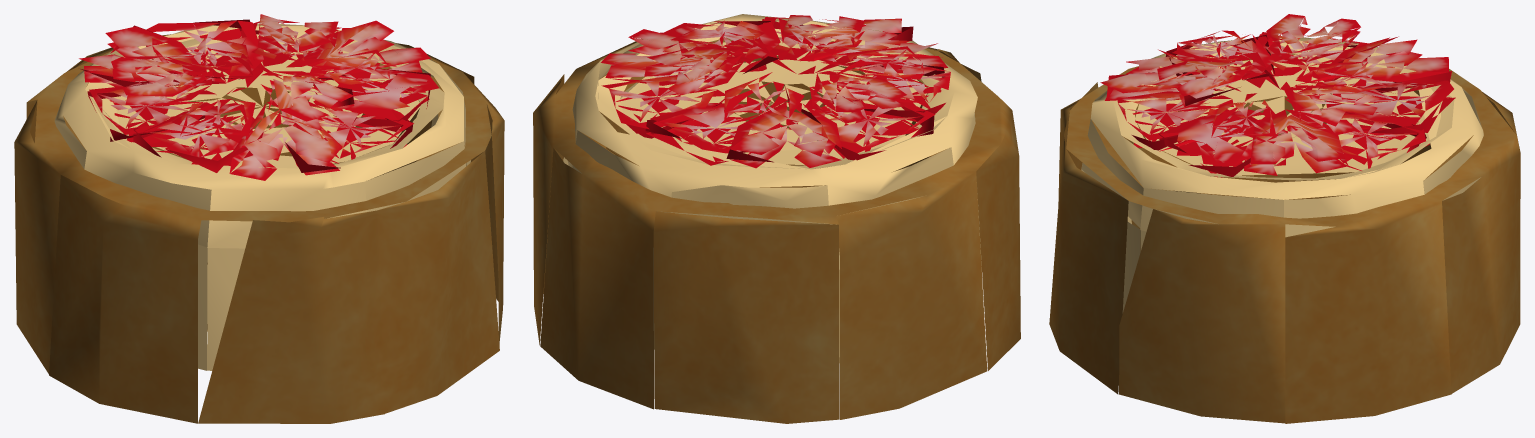
The model's file is Tart.006_LOD2.fbx.
3 renders of one model, left to right at view 1: azimuth 30°, elevation 25°; view 2: azimuth 150°, elevation 25°; view 3: azimuth 270°, elevation 25°, orthographic. The views are drawn at different scales.
Parts seen in each view (by area): view 1: Tart_006_Tart_006_0; view 2: Tart_006_Tart_006_0; view 3: Tart_006_Tart_006_0.
Part boxes in pixels (x1,y1,x2,y2): Tart_006_Tart_006_0: [14, 14, 504, 423]; Tart_006_Tart_006_0: [533, 14, 1020, 423]; Tart_006_Tart_006_0: [1049, 14, 1520, 423].
Bounding box in the file's own units: 53.69 × 32.18 × 53.8.
Materials: 4 (4 with a texture image).
